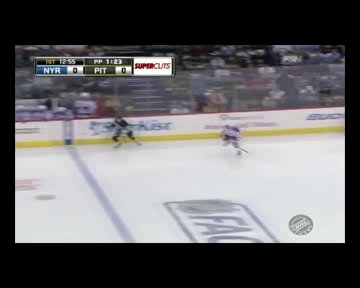normal: (102, 114, 147, 152)
